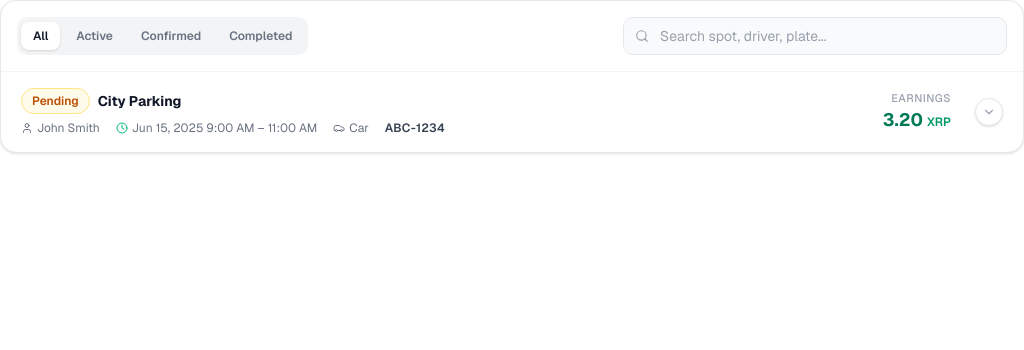
Test: BookingList Component › Row Click - Expand/Collapse › click row shows booking ID
Click the heading "City Parking" at [140, 101], box [98,91,182,111]
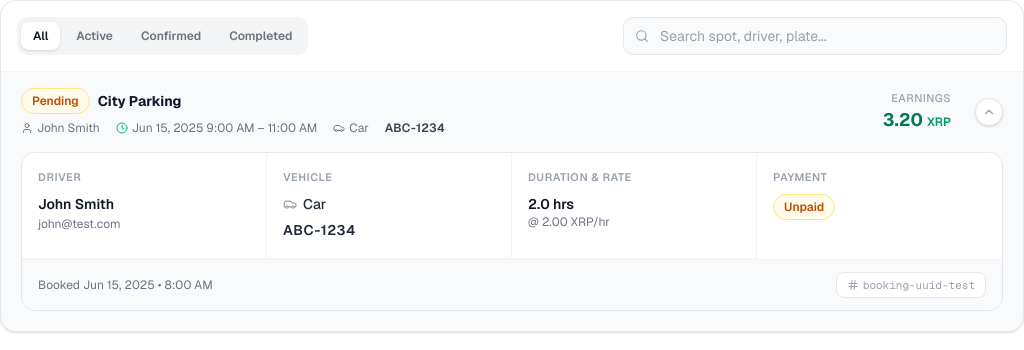
expect the text "booking-uuid-test" is shown: met, box [836,272,986,298]
